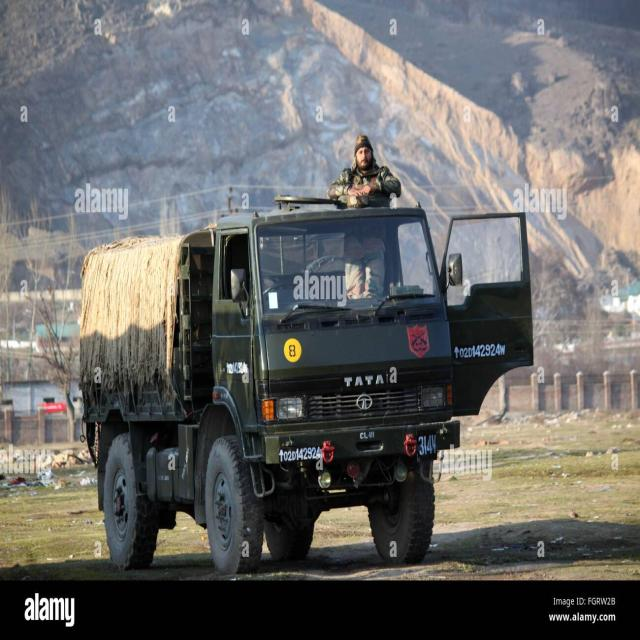military-plate: (450, 341, 510, 360), (278, 444, 324, 464), (221, 359, 249, 376)
unit number: (416, 429, 441, 456)
